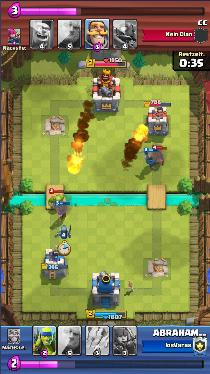ally_fireball: (131, 125, 149, 142)
ally_goblin_cage: (47, 194, 67, 209)
ally_knight: (143, 151, 156, 168)
ally_mini_pekka: (56, 225, 73, 240)
ally_musketeer: (54, 204, 68, 218)
enemy_fireball: (66, 152, 84, 173)
enemy_musketeer: (153, 147, 165, 165)
